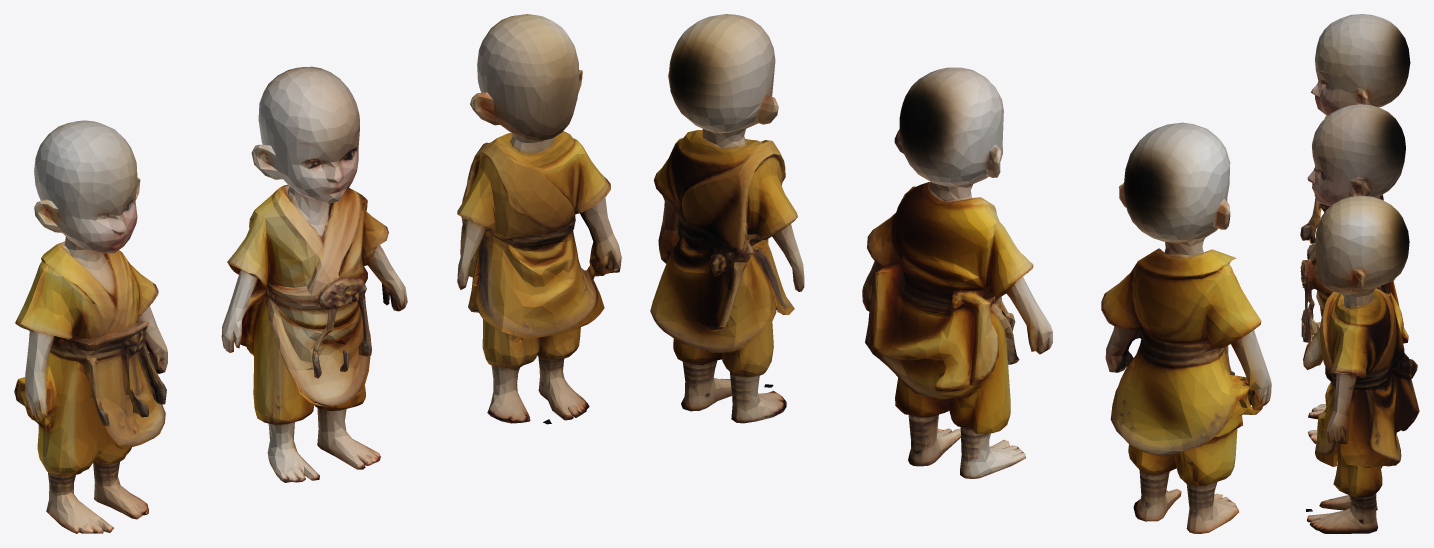
Rendered from avatar-sculpt.glb.
3 renders of one model, left to right at view 1: azimuth 30°, elevation 25°; view 2: azimuth 150°, elevation 25°; view 3: azimuth 270°, elevation 25°, orthographic. The views are drawn at different scales.
Parts seen in each view (by area): view 1: world; view 2: world; view 3: world.
Part boxes in pixels (x1=…): world: x1=14, y1=14, x2=621, y2=533; world: x1=650, y1=14, x2=1271, y2=533; world: x1=1300, y1=14, x2=1419, y2=533.
Bounding box in the file's own units: 0.9987 × 0.6193 × 0.2091.
Materials: 1 (1 with a texture image).
